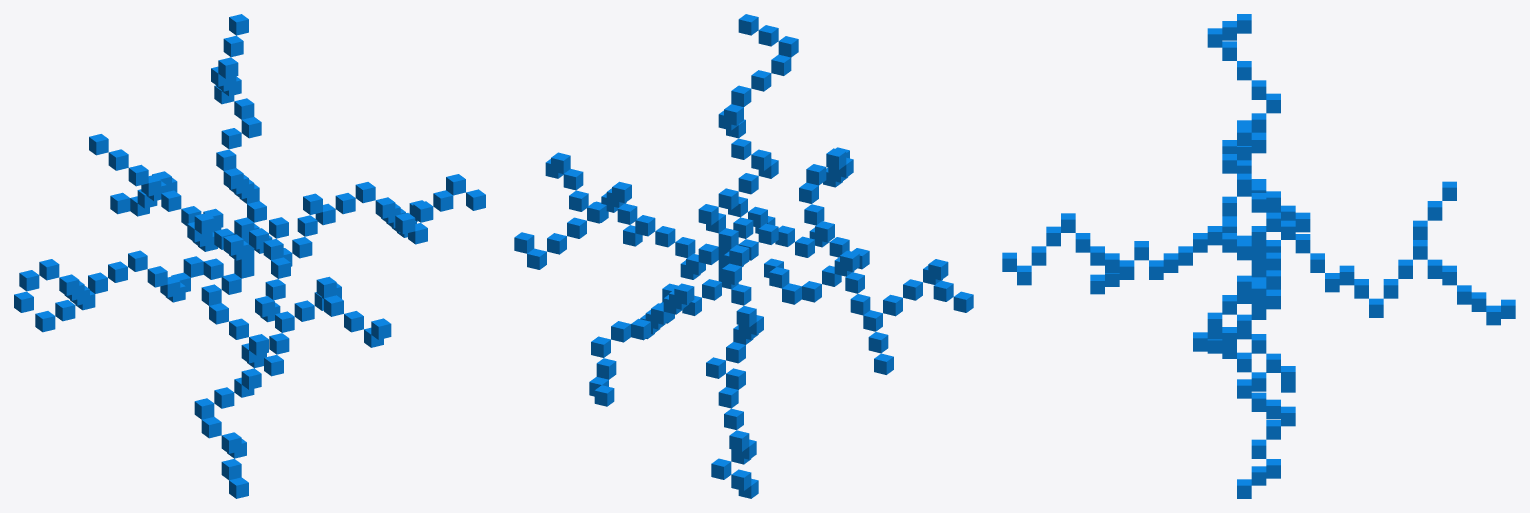
File: VoxelEffects_Electro_04.FBX
3 views of the same model, side by side, from view 1: azimuth 30°, elevation 25°; view 2: azimuth 150°, elevation 25°; view 3: azimuth 270°, elevation 25° (orthographic).
Visible parts, largest first — view 1: VoxelEffects_Electro_04; view 2: VoxelEffects_Electro_04; view 3: VoxelEffects_Electro_04.
Boxes of the visible parts, x1,y1,x2,y2 form: VoxelEffects_Electro_04: [14, 14, 485, 498]; VoxelEffects_Electro_04: [514, 14, 973, 498]; VoxelEffects_Electro_04: [1002, 14, 1515, 498].
Bounding box in the file's own units: 350 × 360 × 350.
